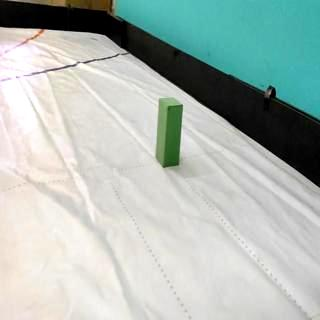greenbox: (154, 96, 184, 168)
